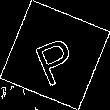P_NW: (28, 25, 82, 85)
